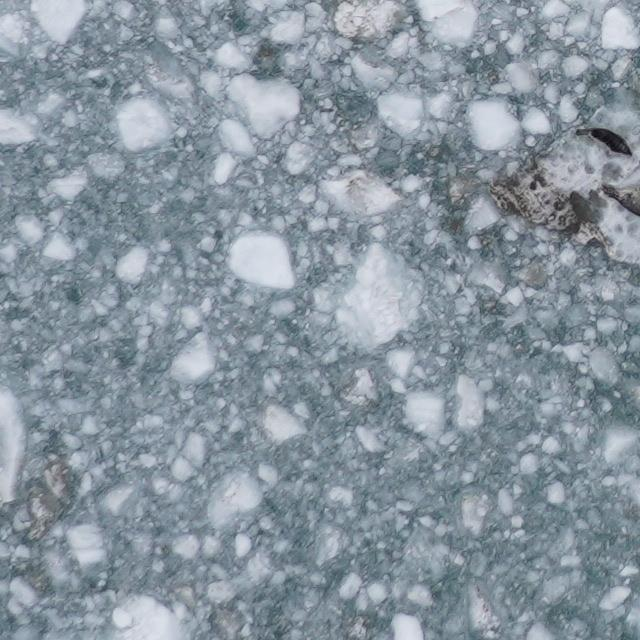seal: (572, 124, 636, 159)
